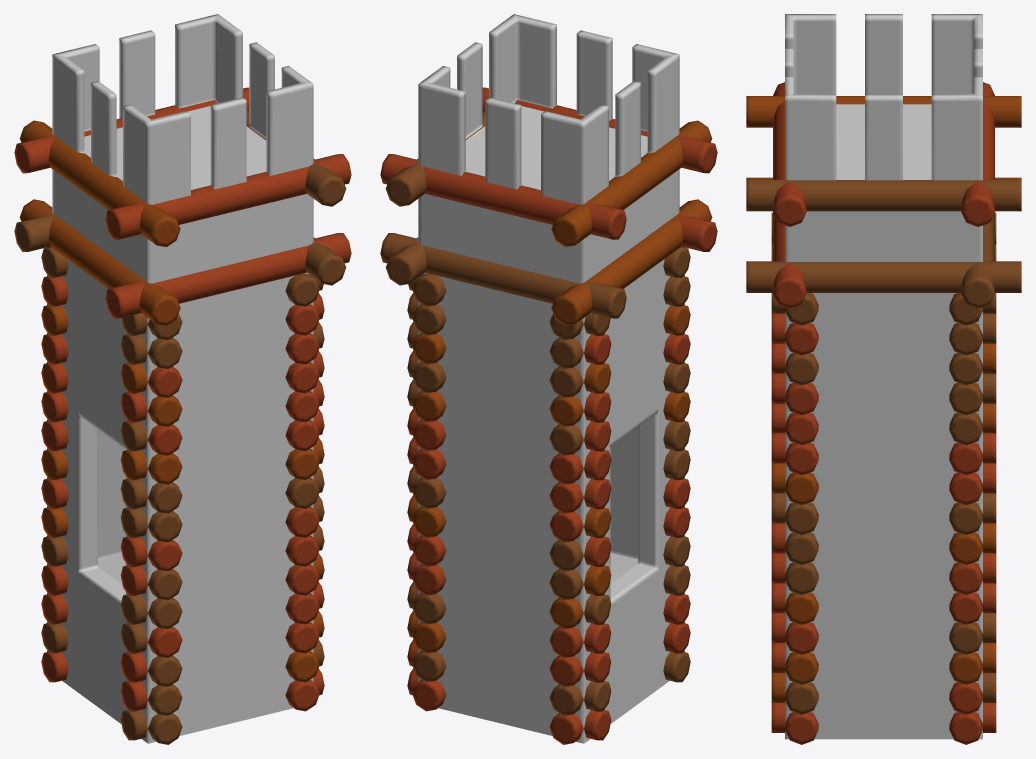
File: SmallWoodTower.fbx
3 views of the same model, side by side, from view 1: azimuth 30°, elevation 25°; view 2: azimuth 150°, elevation 25°; view 3: azimuth 270°, elevation 25° (orthographic). The views are drawn at different scales.
Visible parts, largest first — view 1: SmallTowerMain, SmallTowerPoles, SmallTowerInterior; view 2: SmallTowerMain, SmallTowerPoles, SmallTowerInterior; view 3: SmallTowerMain, SmallTowerPoles.
Part boxes in pixels (x1=…): SmallTowerMain: x1=52, y1=14, x2=313, y2=743; SmallTowerPoles: x1=14, y1=87, x2=351, y2=744; SmallTowerInterior: x1=97, y1=429, x2=125, y2=584; SmallTowerMain: x1=418, y1=14, x2=679, y2=743; SmallTowerPoles: x1=380, y1=87, x2=717, y2=744; SmallTowerInterior: x1=610, y1=425, x2=639, y2=583; SmallTowerMain: x1=785, y1=14, x2=982, y2=739; SmallTowerPoles: x1=746, y1=82, x2=1021, y2=744.
Size of the model in its own units: 4.17 by 10.72 by 4.17.
